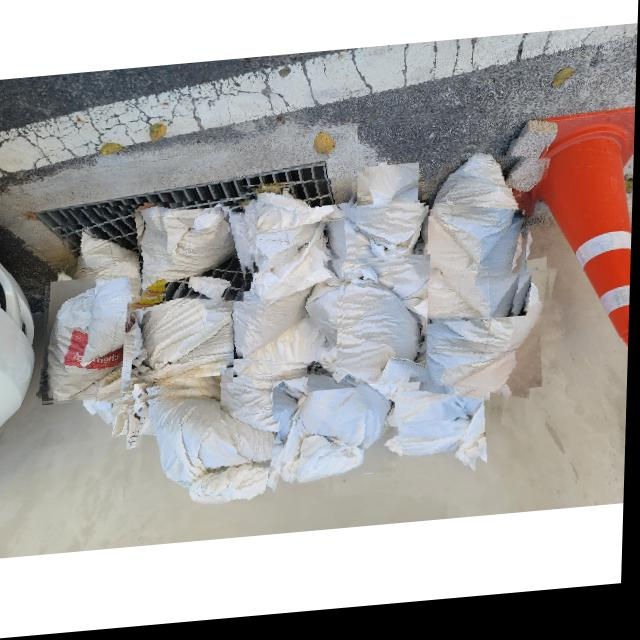other_trashbag: (410, 264, 552, 408), (207, 233, 347, 371), (127, 395, 297, 508), (369, 336, 495, 483), (272, 365, 405, 493), (423, 157, 548, 283), (317, 263, 429, 396), (303, 212, 429, 324), (132, 256, 235, 392), (415, 213, 533, 327), (131, 209, 252, 305), (66, 207, 167, 317), (40, 281, 129, 404), (242, 183, 357, 277), (223, 331, 316, 430), (359, 171, 419, 252)
